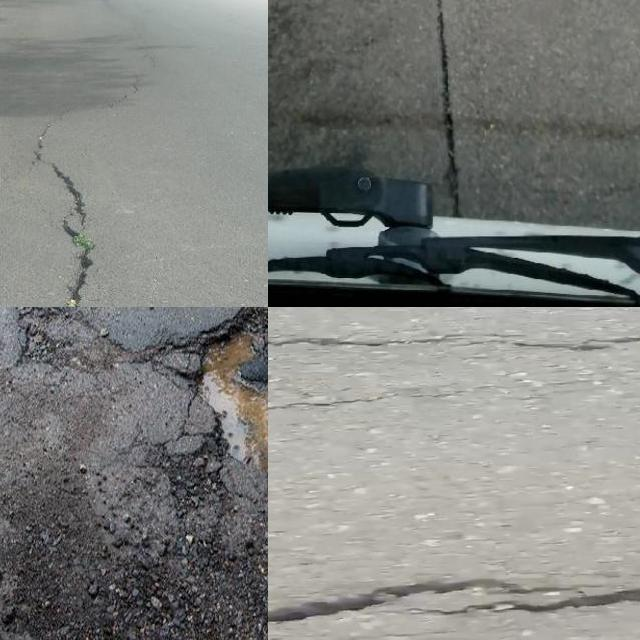Lubang: (174, 311, 268, 480)
Melintang: (268, 566, 640, 628), (268, 322, 640, 358)
Memanjang: (24, 124, 104, 307), (427, 0, 478, 220)
